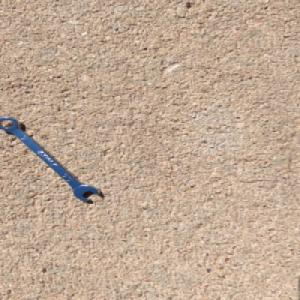Wrench: (0, 114, 102, 201)
